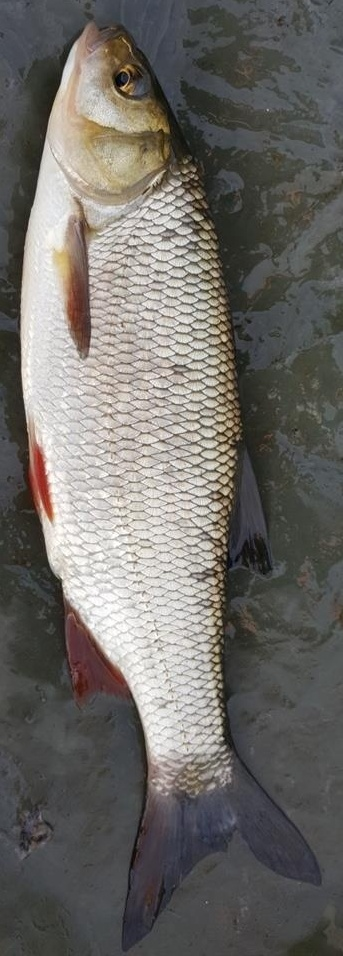Leuciscus idus: (20, 20, 323, 949)
